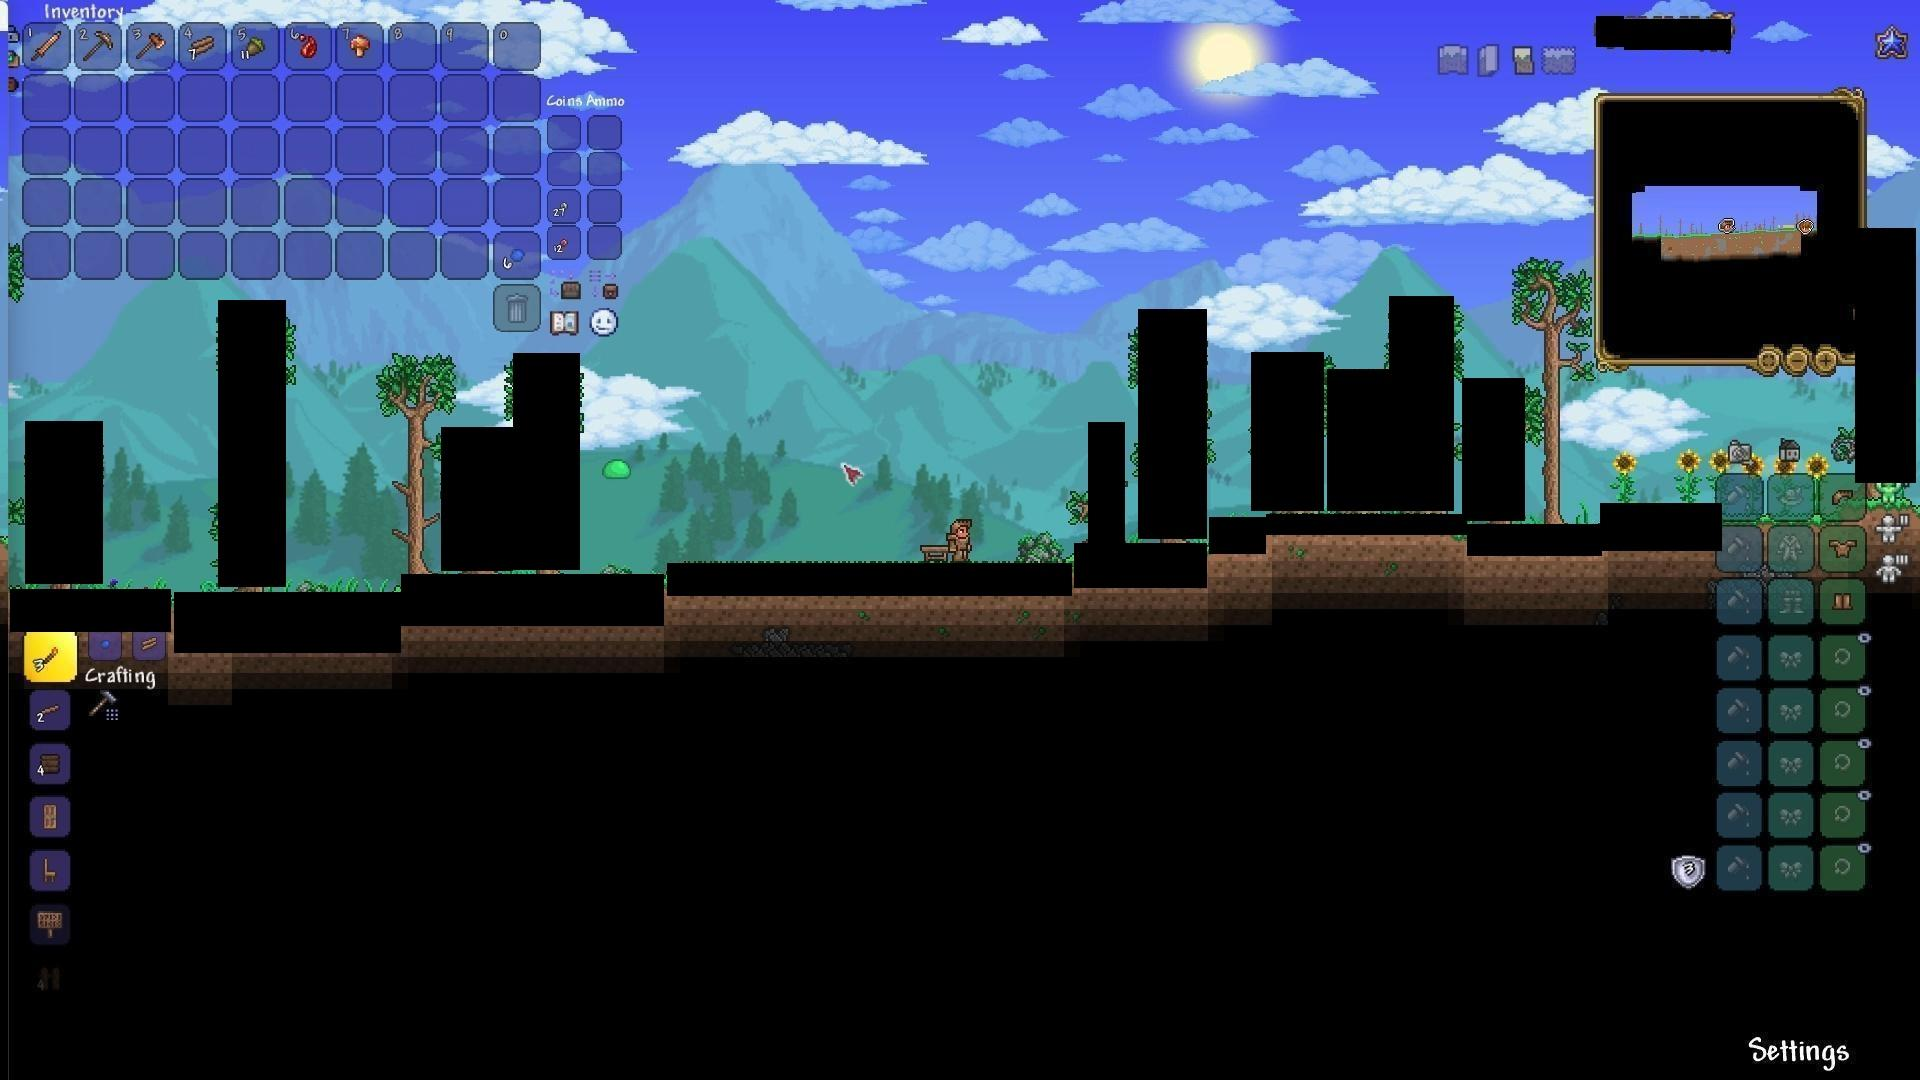breastplate: (1830, 537, 1859, 558)
helmet: (1830, 484, 1855, 506)
legs: (1830, 588, 1855, 616)
slime: (603, 458, 632, 480)
tree: (375, 342, 440, 568), (1526, 255, 1578, 520)
wood: (135, 632, 164, 659), (187, 33, 216, 61)
workbench: (916, 541, 953, 564)
